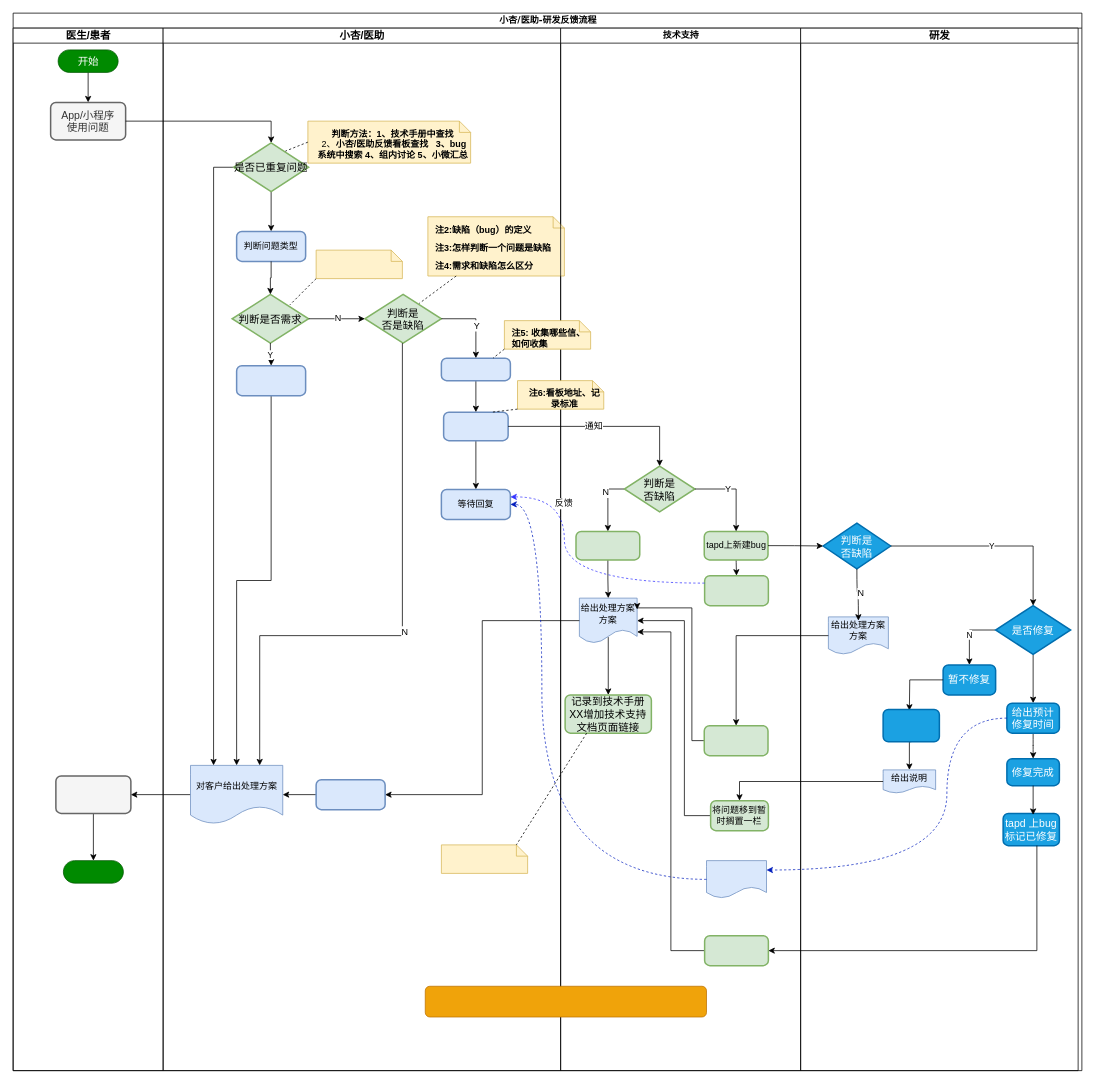
This 1095x1084 diagram has some shape labels left out. Each missing label, with the centre of its shape:
"tapd 上bug标记暂不修复" belongs at (x=911, y=725).
"在处理中一栏标记预计完成时间" belongs at (x=736, y=879).
"将问题移到不是缺陷一栏" belongs at (x=607, y=545).
"将问题移到反馈归档一栏" belongs at (x=350, y=794).
"将问题移到处理中一栏" belongs at (x=736, y=590).
"将问题移到已处理一栏" belongs at (x=736, y=950).
"将问题移到已完成一栏" belongs at (x=735, y=740).
"打产品标签" belongs at (x=271, y=380).
"接受处理方案" belongs at (x=93, y=794).
"收集缺陷信息" belongs at (x=475, y=369).
"每周小杏周会同步线上问题，同时收集对流程的改进意见" belongs at (x=565, y=1001).
"注1: 怎么判断需求" belongs at (x=358, y=264).
"注7: 技术手册是什么、怎么维护" belongs at (x=484, y=858).
"结束" belongs at (x=93, y=871).
"记录到小杏/医助反馈看板" belongs at (x=475, y=426).
